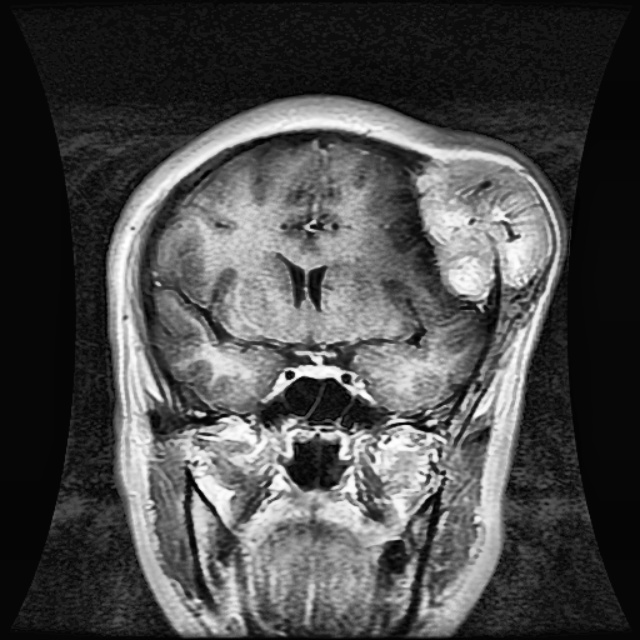Glioma: (418, 157, 550, 300)
